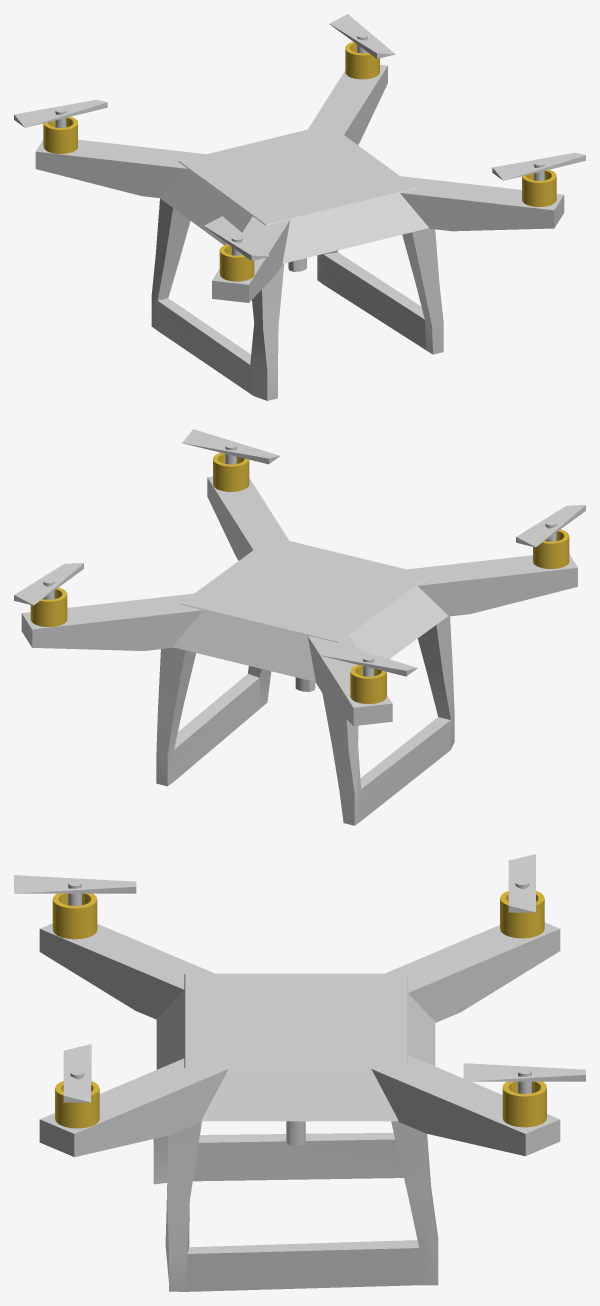
Rendered from drone 1.fbx.
3 renders of one model, top to bottom at view 1: azimuth 30°, elevation 25°; view 2: azimuth 150°, elevation 25°; view 3: azimuth 270°, elevation 25°, orthographic. The views are drawn at different scales.
Visible parts, largest first — view 1: polySurface14; view 2: polySurface14; view 3: polySurface14.
Boxes of the visible parts, left/top/right/bottom form: polySurface14: left=14, top=14, right=585, bottom=400; polySurface14: left=14, top=429, right=585, bottom=825; polySurface14: left=14, top=854, right=585, bottom=1291.
Size of the model in its own units: 4.68 by 2.34 by 4.68.
